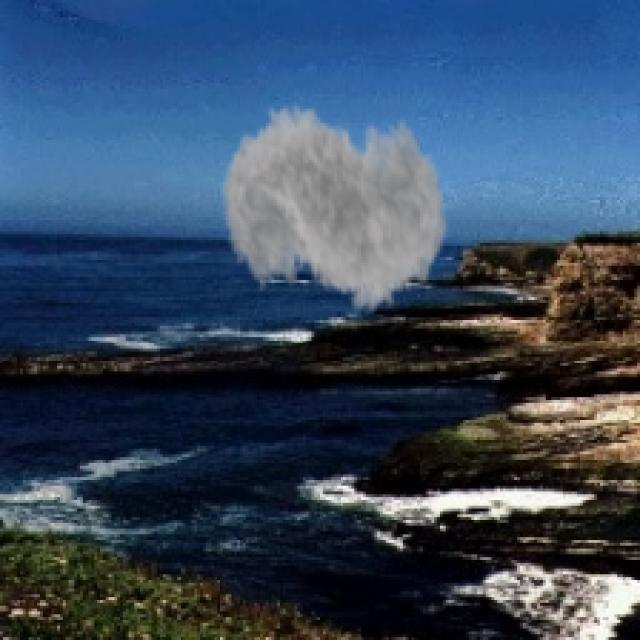smoke: (220, 77, 449, 332)
